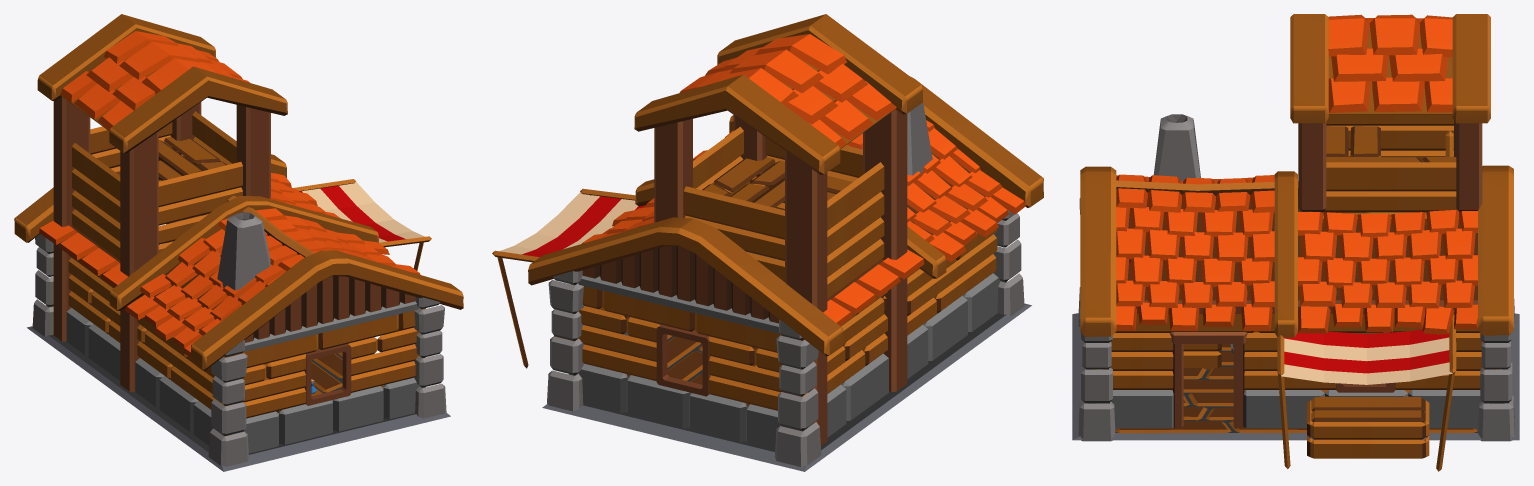
Rendered from shop_model_glb.glb.
The picture shows the model from 3 angles, left to right: view 1: azimuth 30°, elevation 25°; view 2: azimuth 150°, elevation 25°; view 3: azimuth 270°, elevation 25°; orthographic projection. The views are drawn at different scales.
Visible parts, largest first — view 1: shop_model; view 2: shop_model; view 3: shop_model.
Boxes of the visible parts, bbox=[...] form: shop_model: bbox=[14, 14, 463, 471]; shop_model: bbox=[492, 14, 1043, 471]; shop_model: bbox=[1072, 14, 1519, 471].
Size of what is drawn, in the model's own units: 11.14 by 10.37 by 12.
1 material, 1 textured.
